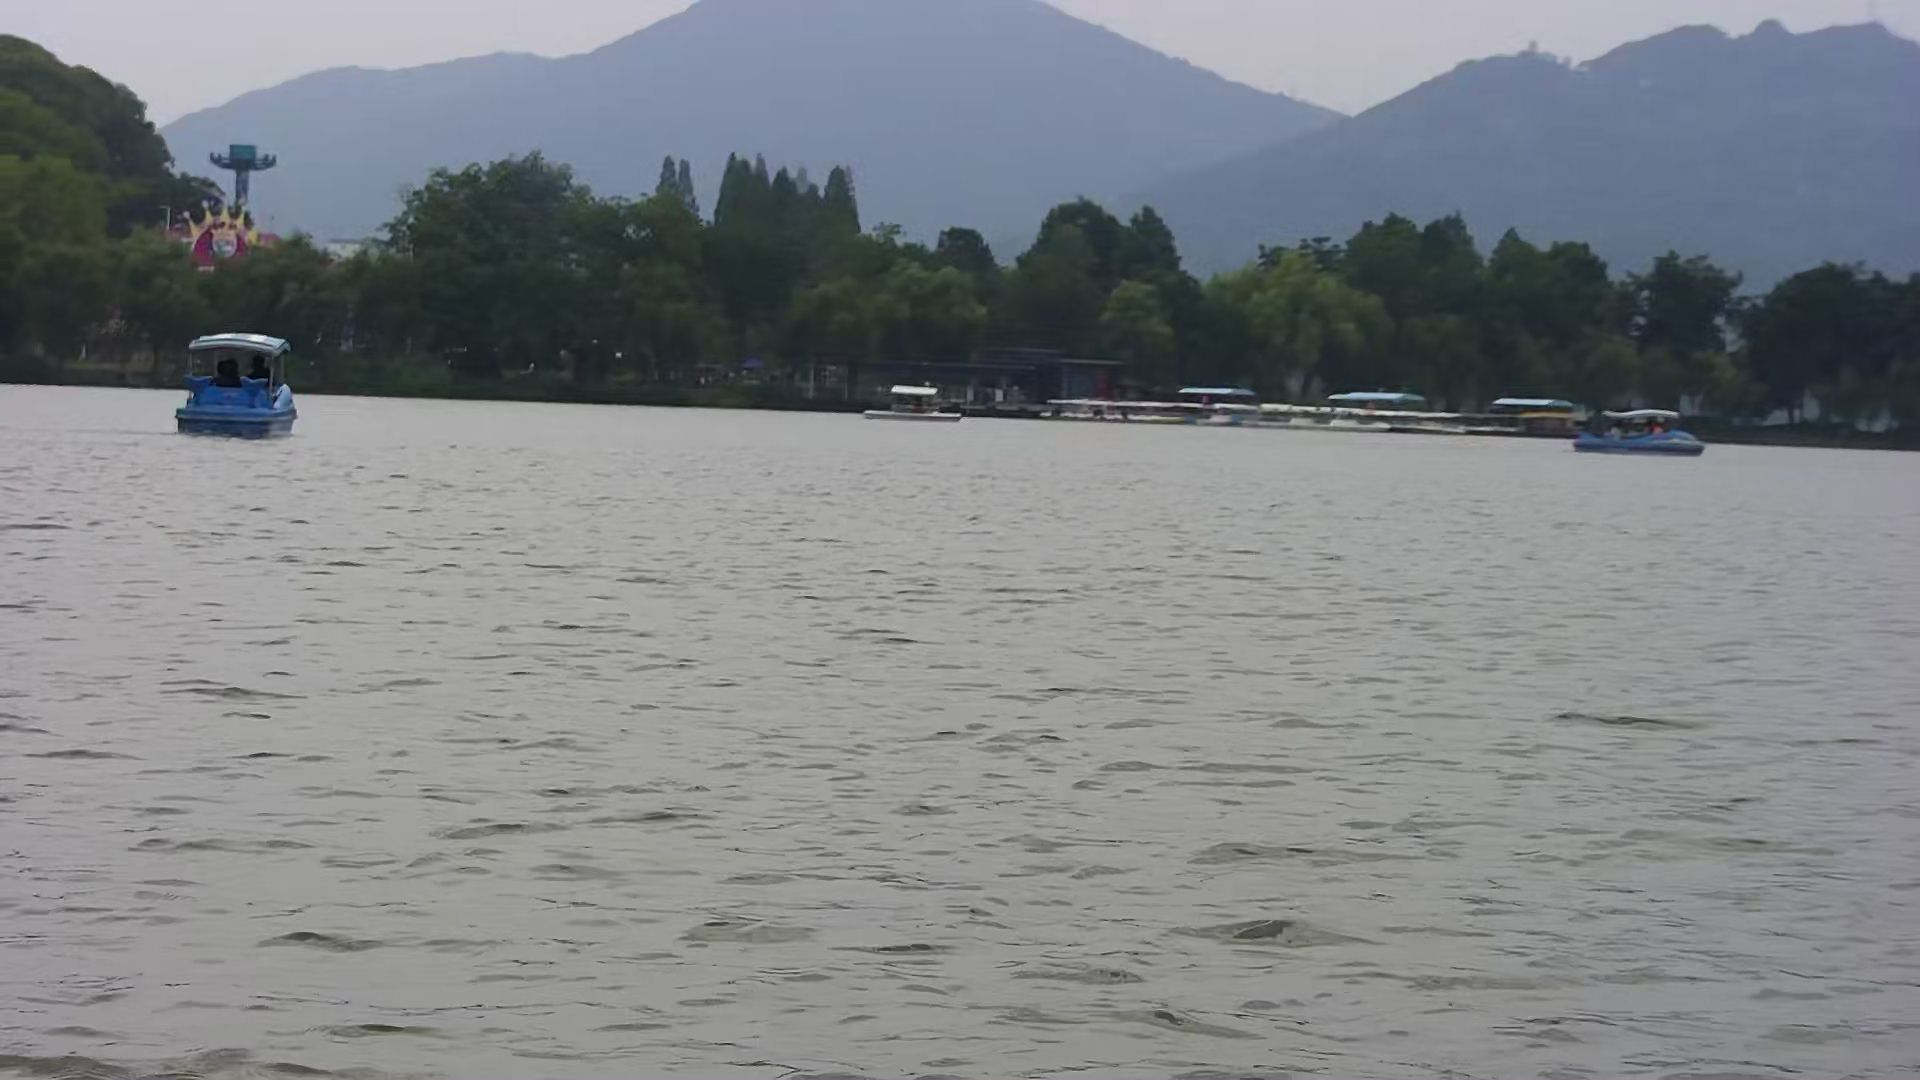boat: (170, 332, 305, 436), (1573, 388, 1713, 460), (843, 378, 965, 419)
